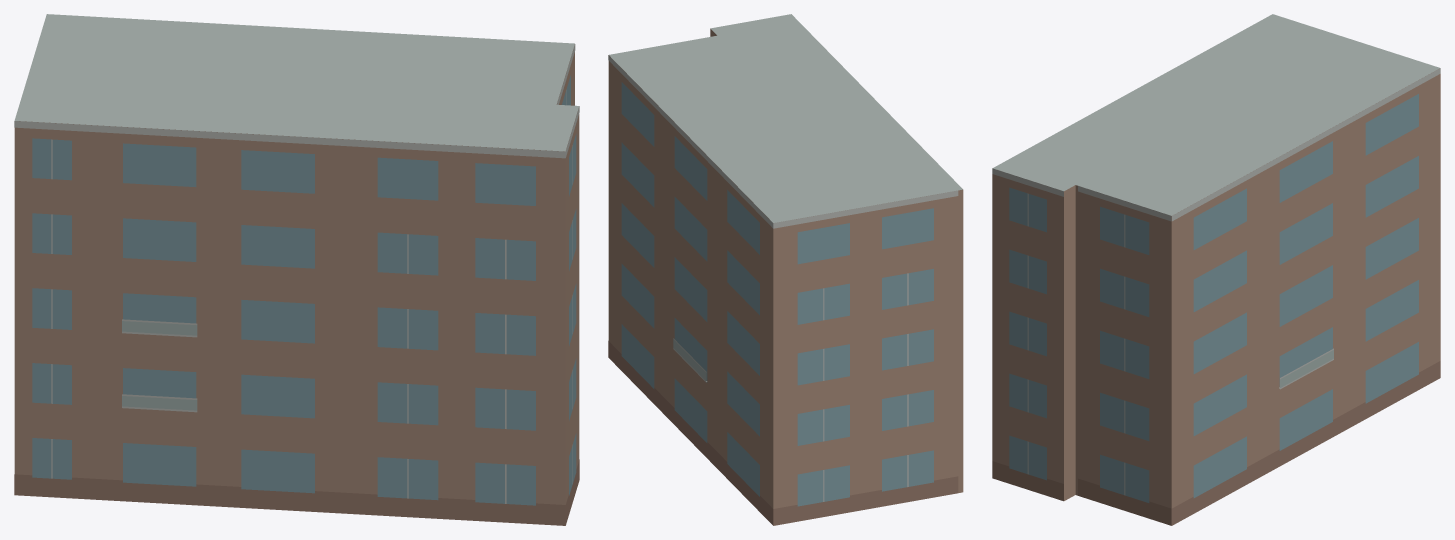
The model's file is survey-upis-32977506.glb.
3 renders of one model, left to right at view 1: azimuth 30°, elevation 25°; view 2: azimuth 150°, elevation 25°; view 3: azimuth 270°, elevation 25°, orthographic. The views are drawn at different scales.
Visible parts, largest first — view 1: survey-upis-32977506.tmp; view 2: survey-upis-32977506.tmp; view 3: survey-upis-32977506.tmp.
Part boxes in pixels (x1,y1,x2,y2): survey-upis-32977506.tmp: [14, 14, 579, 525]; survey-upis-32977506.tmp: [608, 14, 963, 525]; survey-upis-32977506.tmp: [992, 14, 1440, 525].
Size of the model in its own units: 18.58 by 13.3 by 17.43.
